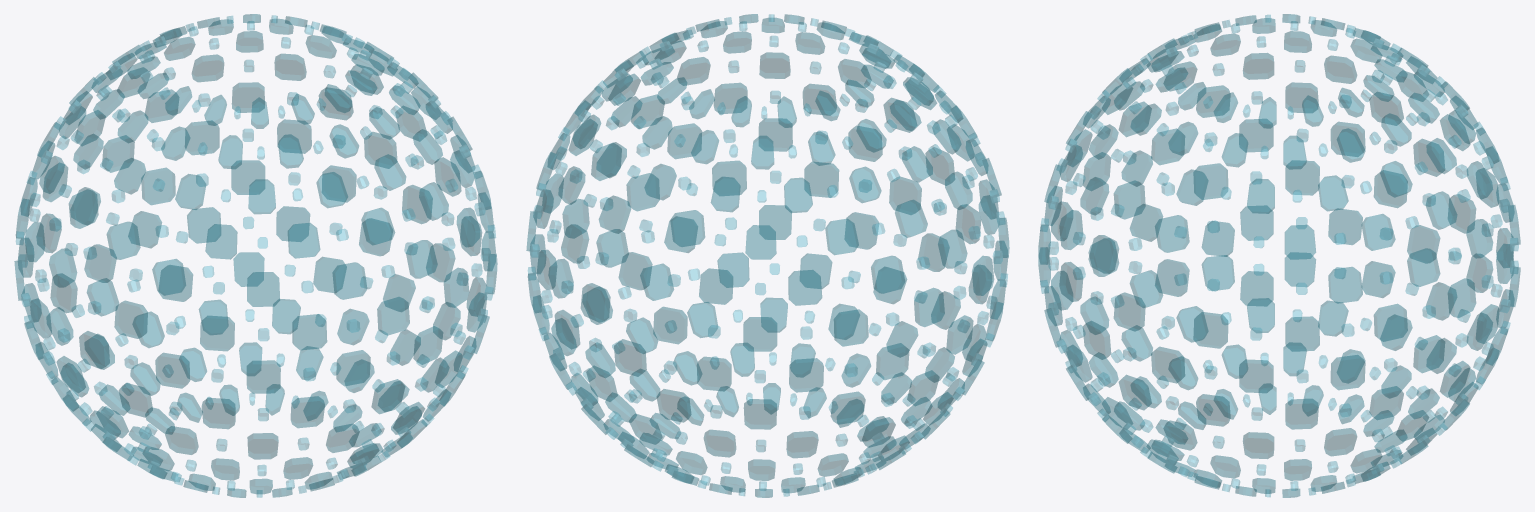
File: shield.fbx
3 renders of one model, left to right at view 1: azimuth 30°, elevation 25°; view 2: azimuth 150°, elevation 25°; view 3: azimuth 270°, elevation 25°, orthographic.
Visible parts, largest first — view 1: Sphere; view 2: Sphere; view 3: Sphere.
Part boxes in pixels (bbox=[...]): Sphere: bbox=[14, 14, 497, 497]; Sphere: bbox=[526, 14, 1009, 497]; Sphere: bbox=[1038, 14, 1520, 497].
Size of the model in its own units: 199 by 182 by 199.
Materials: 1 (1 with a texture image).
